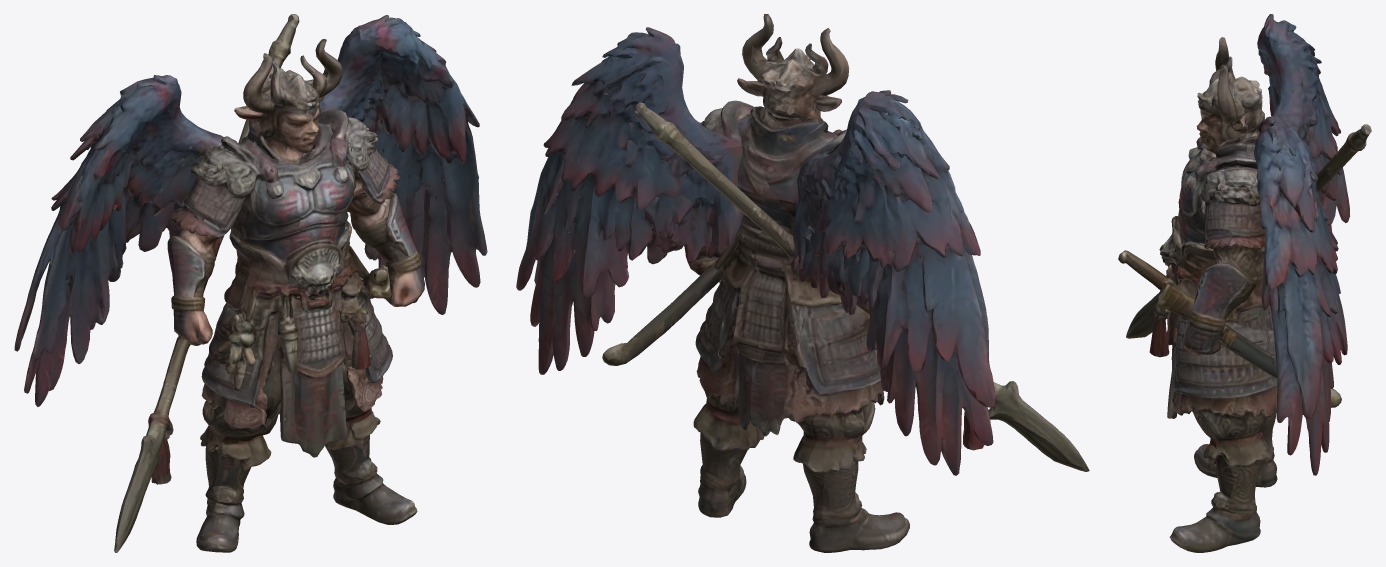
The model's file is chiyou.glb.
3 views of the same model, side by side, from view 1: azimuth 30°, elevation 25°; view 2: azimuth 150°, elevation 25°; view 3: azimuth 270°, elevation 25° (orthographic). The views are drawn at different scales.
Parts seen in each view (by area): view 1: geometry_0; view 2: geometry_0; view 3: geometry_0.
Boxes of the visible parts, x1=… form: geometry_0: x1=14, y1=14, x2=487, y2=552; geometry_0: x1=516, y1=14, x2=1089, y2=552; geometry_0: x1=1118, y1=14, x2=1371, y2=552.
Bounding box in the file's own units: 0.2799 × 0.28 × 0.1411.
1 material, 1 textured.
